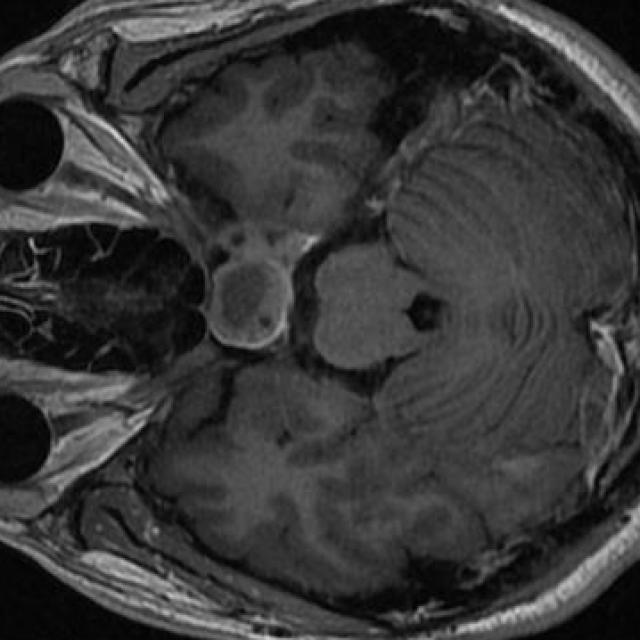pituitary: (209, 258, 292, 351)
